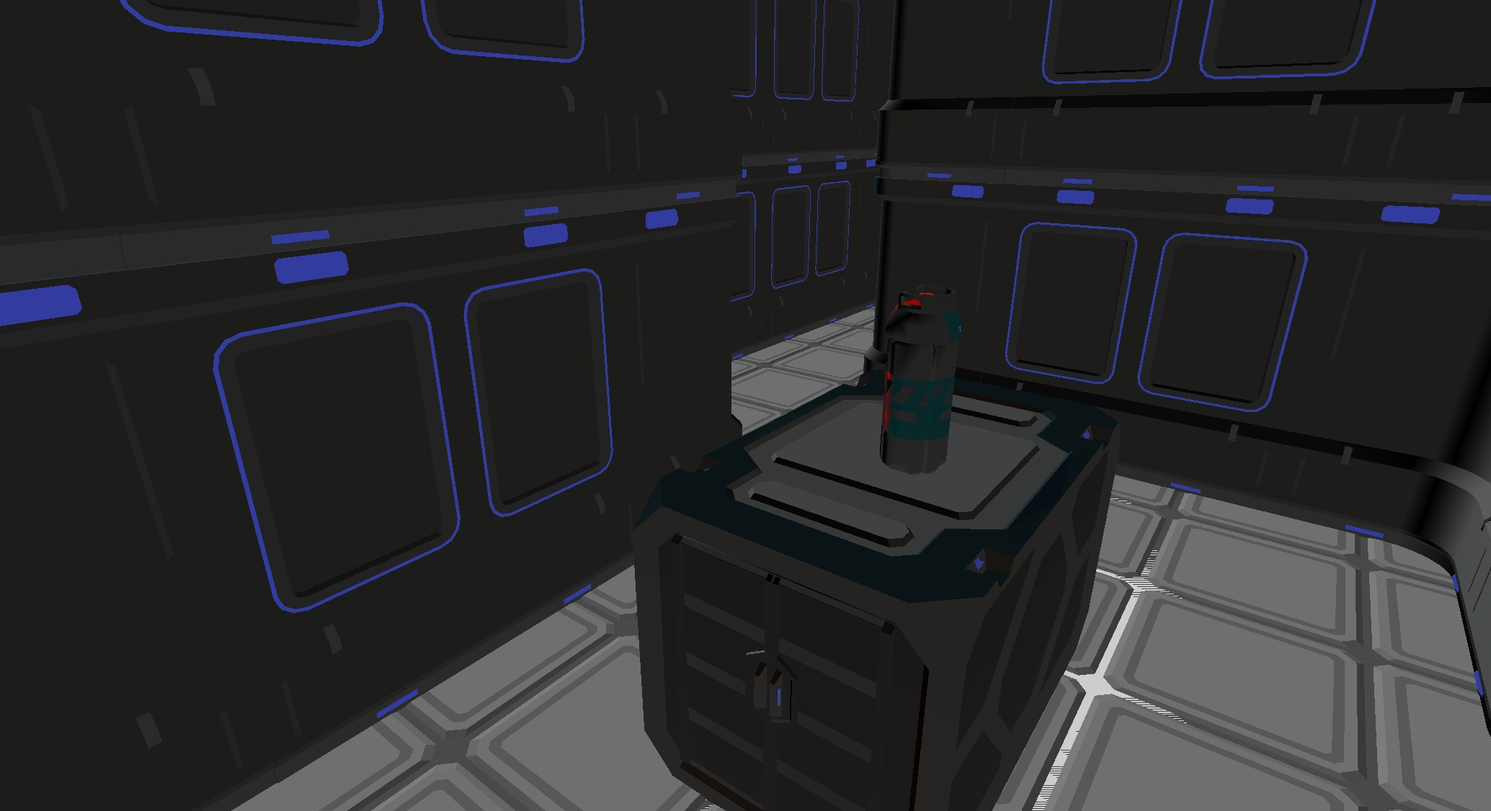red_barrel: (880, 284, 961, 474)
